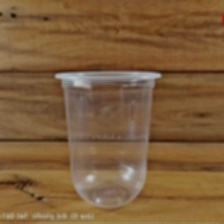glass: (50, 67, 164, 211)
